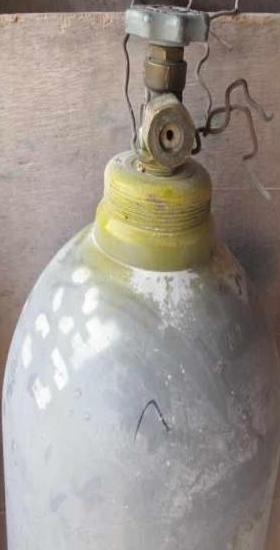cylinder: (1, 1, 280, 550)
